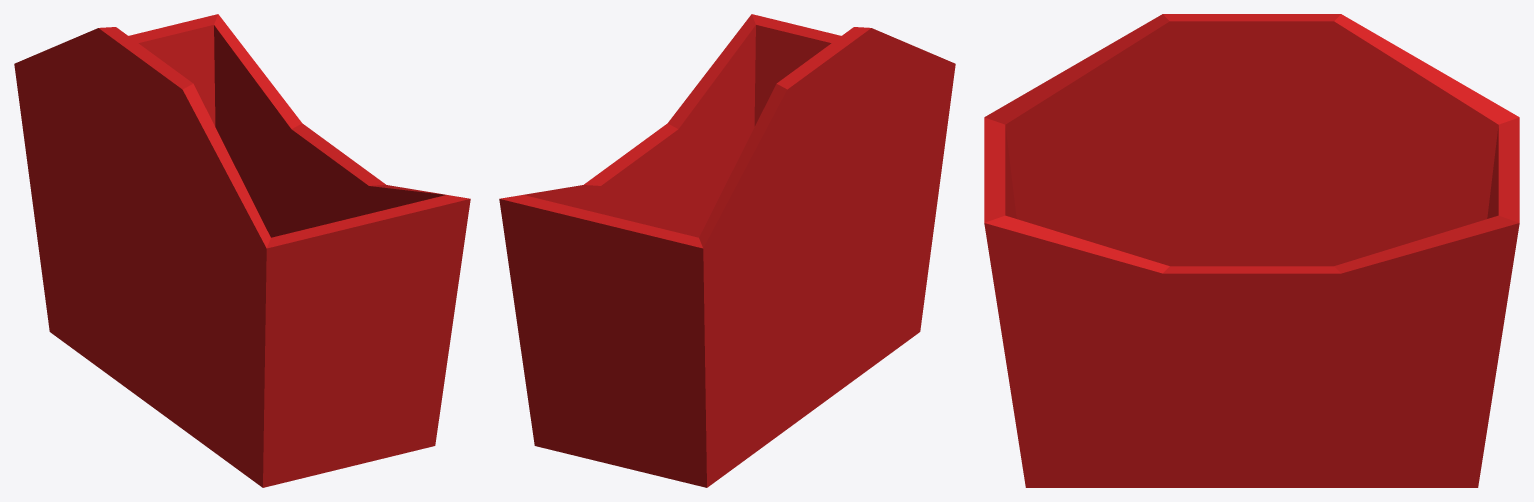
Rendered from papas_bolsa_3.obj.
3 renders of one model, left to right at view 1: azimuth 30°, elevation 25°; view 2: azimuth 150°, elevation 25°; view 3: azimuth 270°, elevation 25°, orthographic. The views are drawn at different scales.
Visible parts, largest first — view 1: Cubo.036_Cubo.064; view 2: Cubo.036_Cubo.064; view 3: Cubo.036_Cubo.064.
Part boxes in pixels (x1,y1,x2,y2): Cubo.036_Cubo.064: (14,14,470,487); Cubo.036_Cubo.064: (499,14,955,487); Cubo.036_Cubo.064: (984,14,1519,487).
Size of the model in its own units: 0.0829 by 0.1378 by 0.1776.
